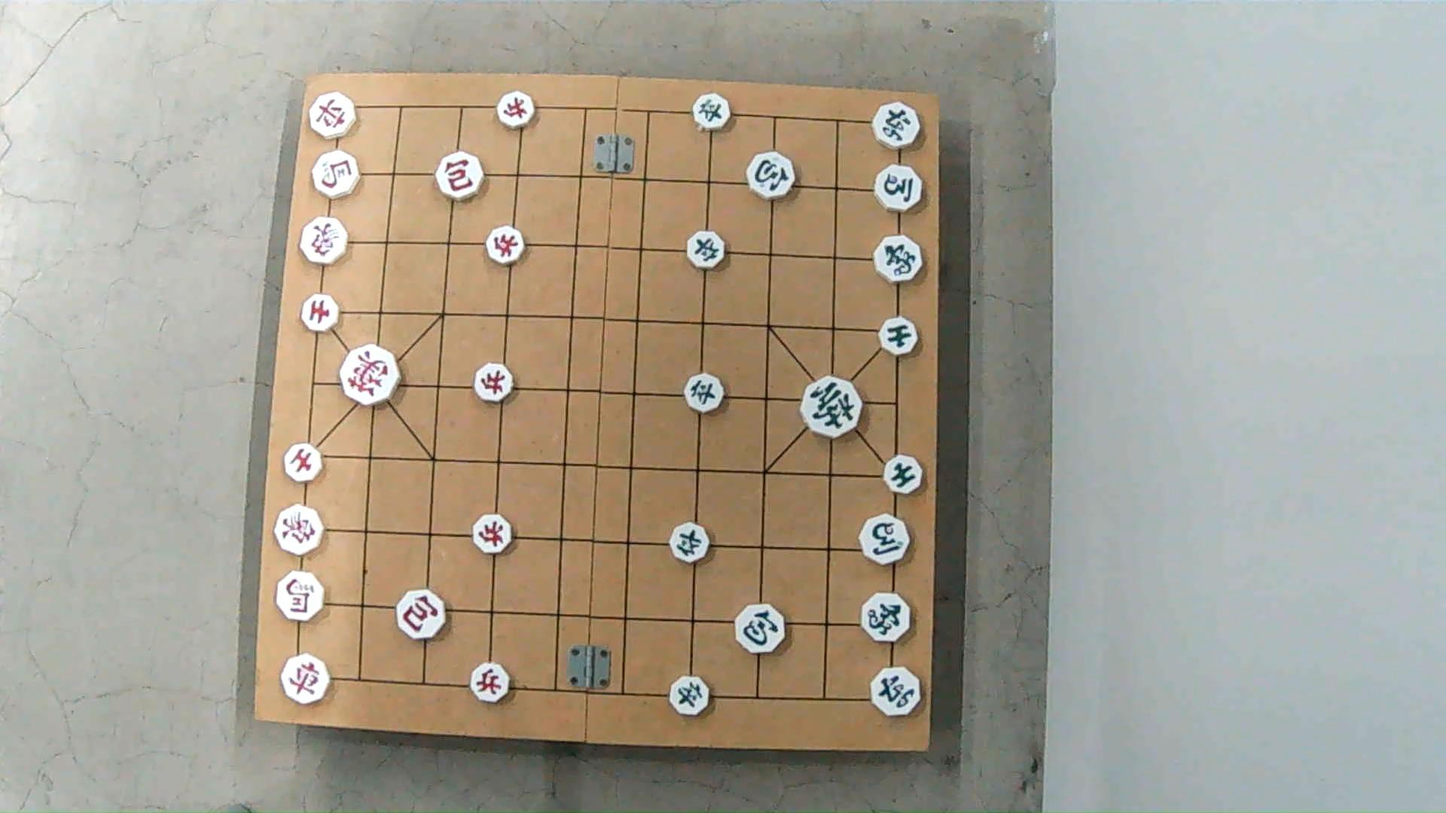cha_green: (870, 668, 925, 714), (872, 106, 924, 148)
cha_red: (306, 93, 360, 139), (280, 656, 331, 702)
jol_green: (669, 678, 714, 714), (680, 373, 723, 410), (671, 526, 715, 562), (683, 236, 727, 270), (694, 95, 736, 129)
jol_red: (470, 517, 514, 554), (468, 665, 512, 702), (471, 366, 515, 400), (485, 228, 526, 263), (494, 93, 535, 126)
ma_green: (858, 513, 914, 565), (871, 167, 921, 211)
ma_red: (276, 573, 326, 620), (313, 154, 363, 199)
po_green: (730, 604, 789, 651), (749, 156, 798, 199)
po_red: (397, 589, 450, 640), (435, 150, 487, 199)
sa_green: (879, 454, 924, 495), (877, 317, 923, 356)
sa_red: (279, 441, 324, 480), (302, 297, 342, 332)
sang_green: (861, 589, 912, 644), (869, 234, 923, 283)
sang_red: (272, 504, 328, 554), (298, 218, 349, 263)
wang_green: (798, 380, 861, 436)
wang_red: (338, 344, 402, 403)
